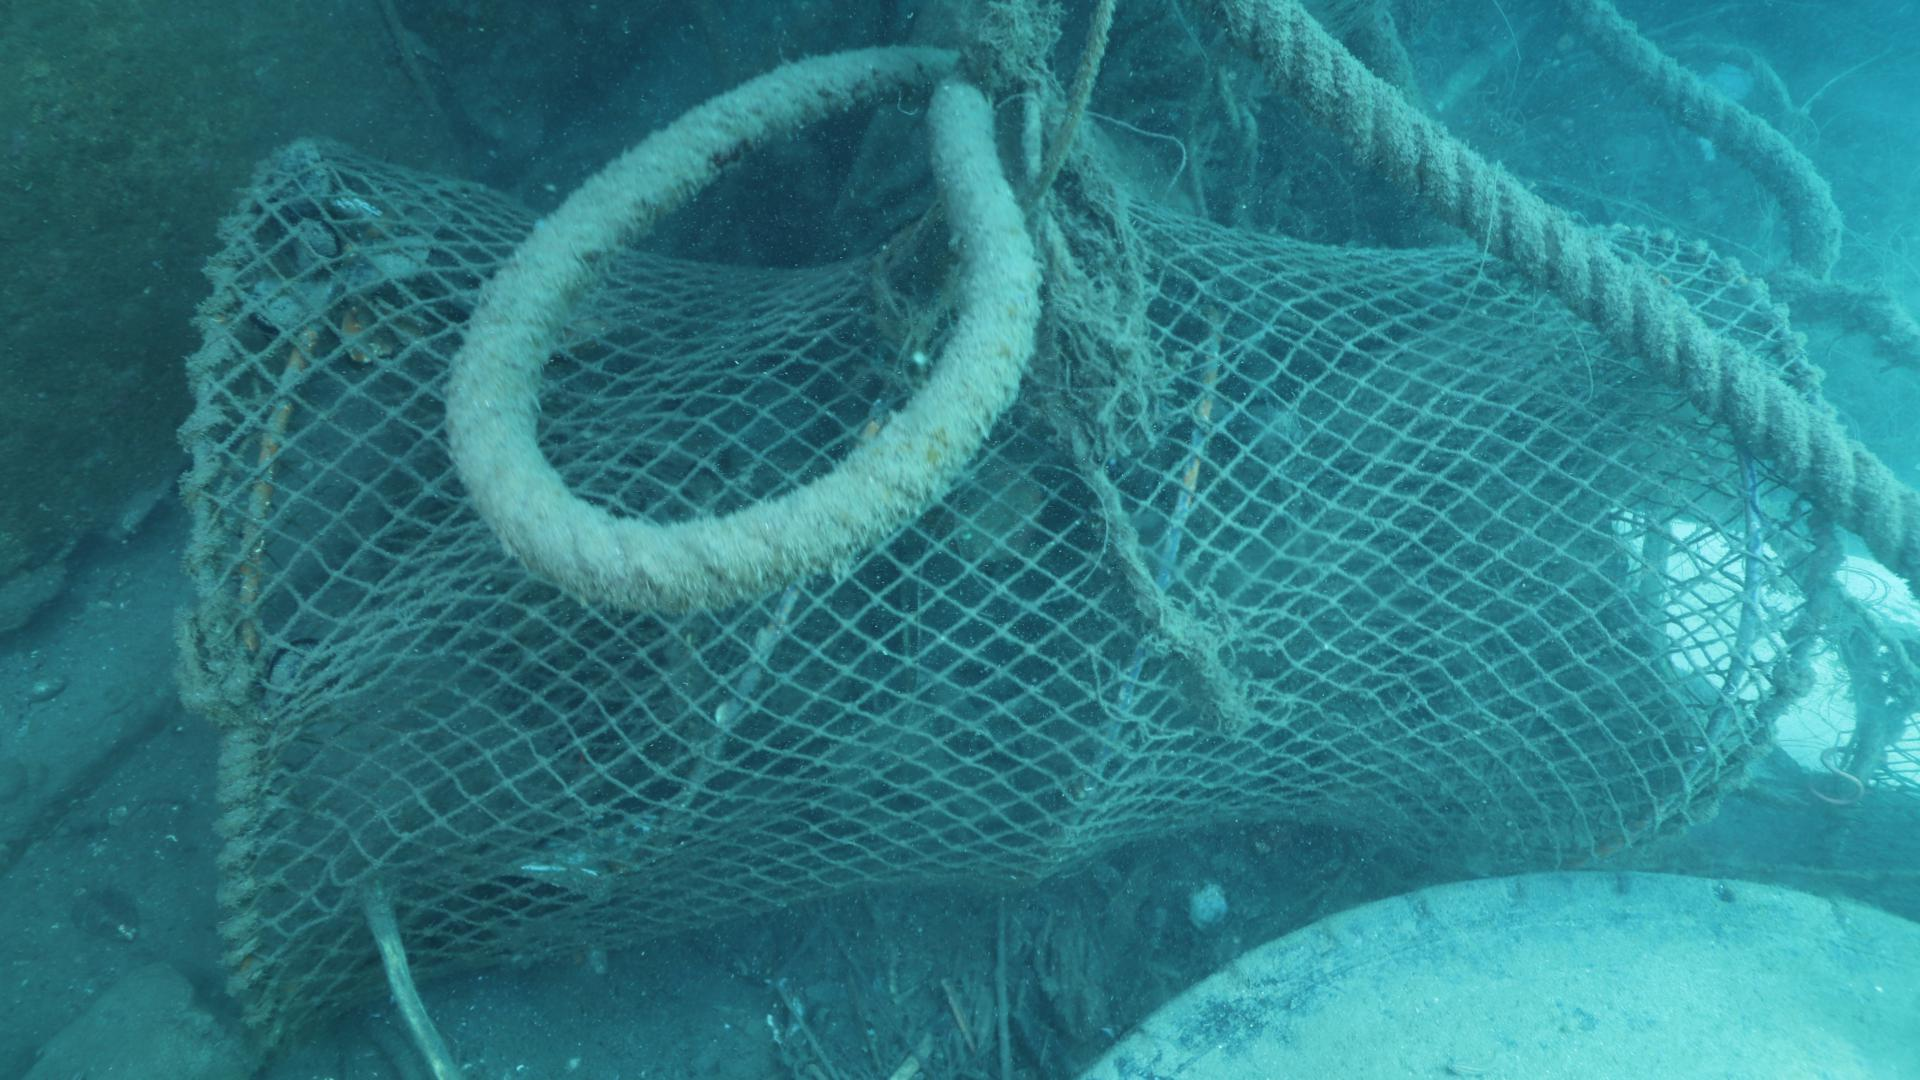rope: (1189, 0, 1920, 597), (439, 42, 1044, 611), (1557, 5, 1920, 364)
spring fish trap: (173, 135, 1842, 1050)
